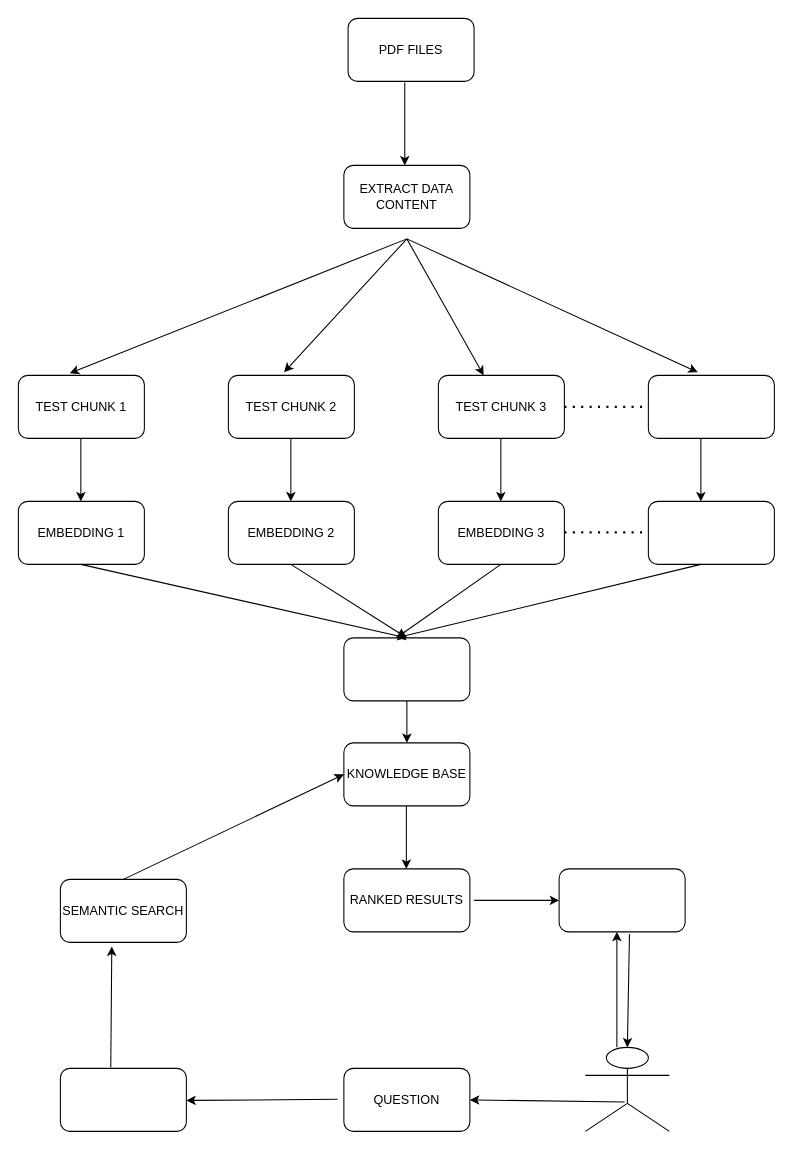
This 793x1172 diagram has some shape labels left out. The shapes that lost their labels are listed below. From the top down, each one's centre as x and y in pixels, then its label:
point 710,406: TEST CHUNK 10
point 710,532: EMBEDDING 10
point 406,669: BUILD SEMANTIC INDEX
point 621,900: LLM GENERATIVE AI
point 122,1099: QUESTION EMBEDDINGS
point 626,1088: USER
